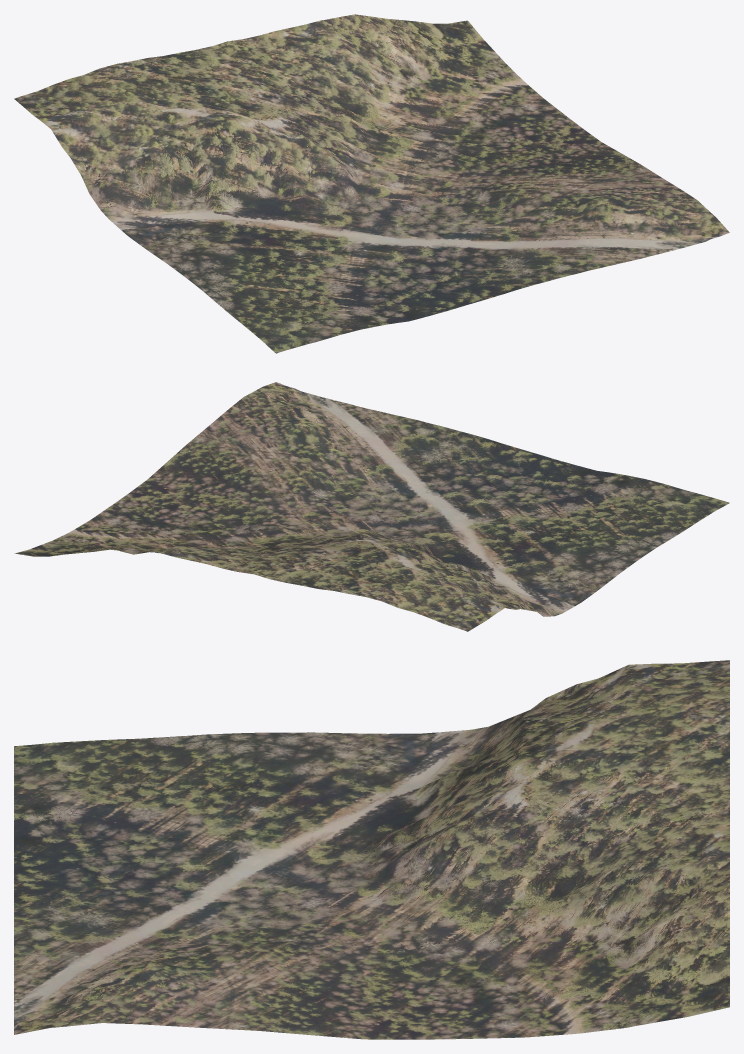
Rendered from CM_Terrain_24490254_6822251.fbx.
3 renders of one model, top to bottom at view 1: azimuth 30°, elevation 25°; view 2: azimuth 150°, elevation 25°; view 3: azimuth 270°, elevation 25°, orthographic. The views are drawn at different scales.
Visible parts, largest first — view 1: CM_Terrain_24490254_6822251_LOD0; view 2: CM_Terrain_24490254_6822251_LOD0; view 3: CM_Terrain_24490254_6822251_LOD0.
Boxes of the visible parts, bbox=[...] form: CM_Terrain_24490254_6822251_LOD0: bbox=[14, 14, 729, 353]; CM_Terrain_24490254_6822251_LOD0: bbox=[14, 382, 729, 631]; CM_Terrain_24490254_6822251_LOD0: bbox=[14, 660, 729, 1039].
Size of what is drawn, in the model's own units: 205 by 31.51 by 205.
